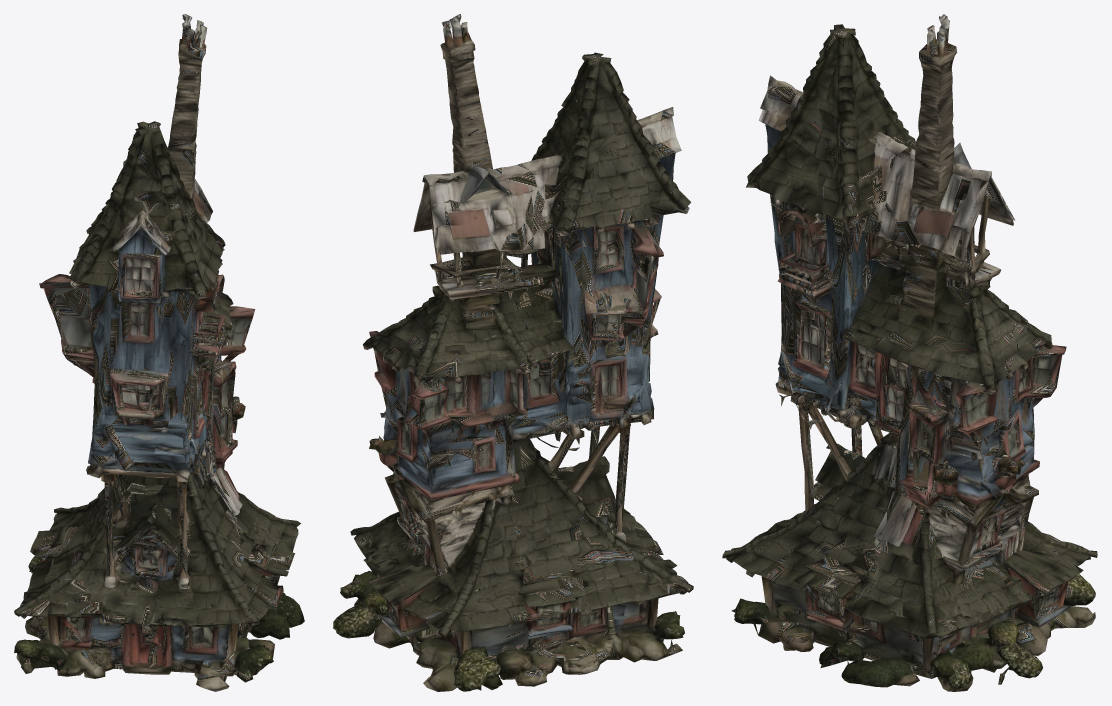
File: house.glb
3 views of the same model, side by side, from view 1: azimuth 30°, elevation 25°; view 2: azimuth 150°, elevation 25°; view 3: azimuth 270°, elevation 25° (orthographic). The views are drawn at different scales.
Parts seen in each view (by area): view 1: tripo_node_d084dad5-4d04-495d-a934-4b2ad0bfbd95; view 2: tripo_node_d084dad5-4d04-495d-a934-4b2ad0bfbd95; view 3: tripo_node_d084dad5-4d04-495d-a934-4b2ad0bfbd95.
Part boxes in pixels (x1,y1,x2,y2): tripo_node_d084dad5-4d04-495d-a934-4b2ad0bfbd95: (14,14,304,691); tripo_node_d084dad5-4d04-495d-a934-4b2ad0bfbd95: (333,14,693,691); tripo_node_d084dad5-4d04-495d-a934-4b2ad0bfbd95: (722,14,1097,691).
Bounding box in the file's own units: 0.5307 × 0.9807 × 0.5297.
Materials: 1 (1 with a texture image).
